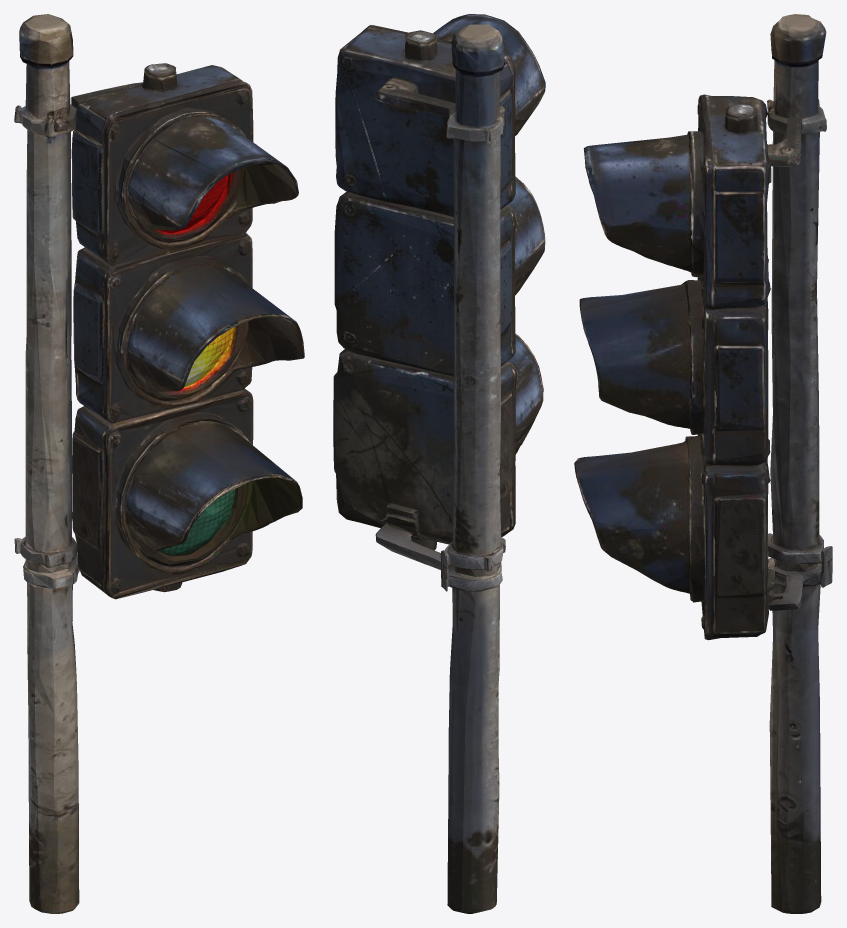
The model's file is traffic_light.glb.
3 renders of one model, left to right at view 1: azimuth 30°, elevation 25°; view 2: azimuth 150°, elevation 25°; view 3: azimuth 270°, elevation 25°, orthographic.
Parts seen in each view (by area): view 1: world; view 2: world; view 3: world.
Boxes of the visible parts, bbox=[...] form: world: bbox=[14, 14, 304, 913]; world: bbox=[333, 14, 545, 913]; world: bbox=[574, 14, 832, 913].
Size of the model in its own units: 0.4459 by 1.99 by 0.5291.
Materials: 1 (1 with a texture image).
